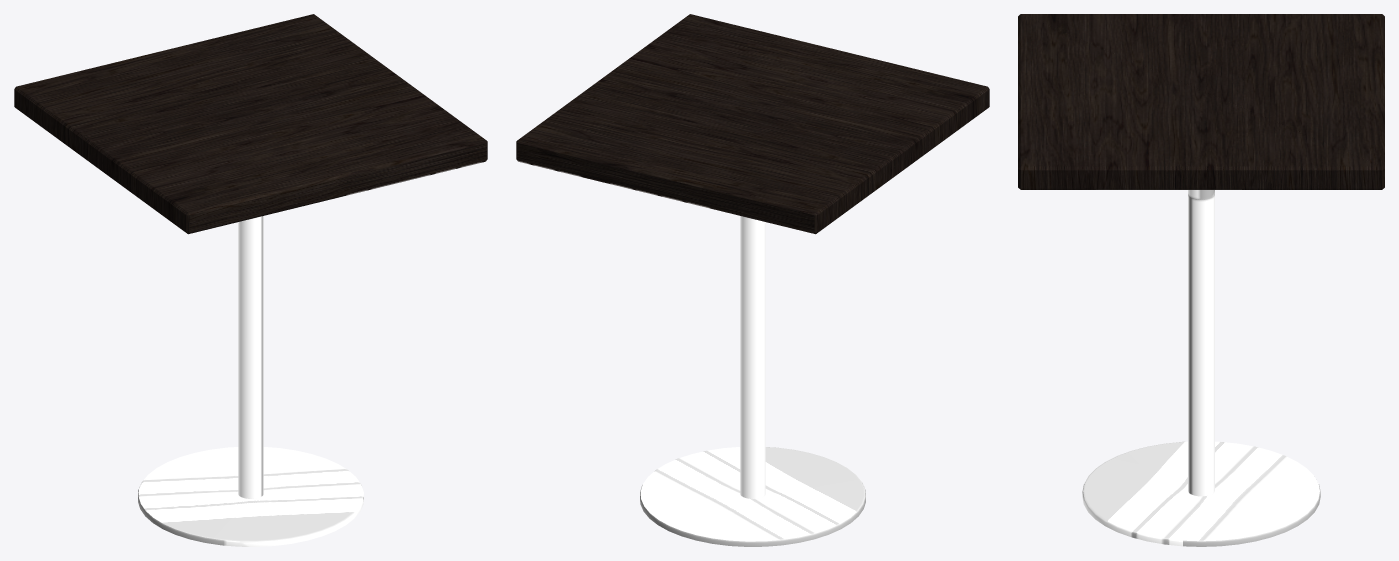
The model's file is SM_BlackBarTable.fbx.
The picture shows the model from 3 angles, left to right: view 1: azimuth 30°, elevation 25°; view 2: azimuth 150°, elevation 25°; view 3: azimuth 270°, elevation 25°; orthographic projection. The views are drawn at different scales.
Visible parts, largest first — view 1: SM_BlackBarTable_LOD0; view 2: SM_BlackBarTable_LOD0; view 3: SM_BlackBarTable_LOD0.
Part boxes in pixels (<box>): SM_BlackBarTable_LOD0: <box>14,14,487,546</box>; SM_BlackBarTable_LOD0: <box>516,14,989,546</box>; SM_BlackBarTable_LOD0: <box>1018,14,1384,546</box>.
Size of the model in its own units: 78.65 by 78.65 by 96.13.
Materials: 1 (1 with a texture image).
